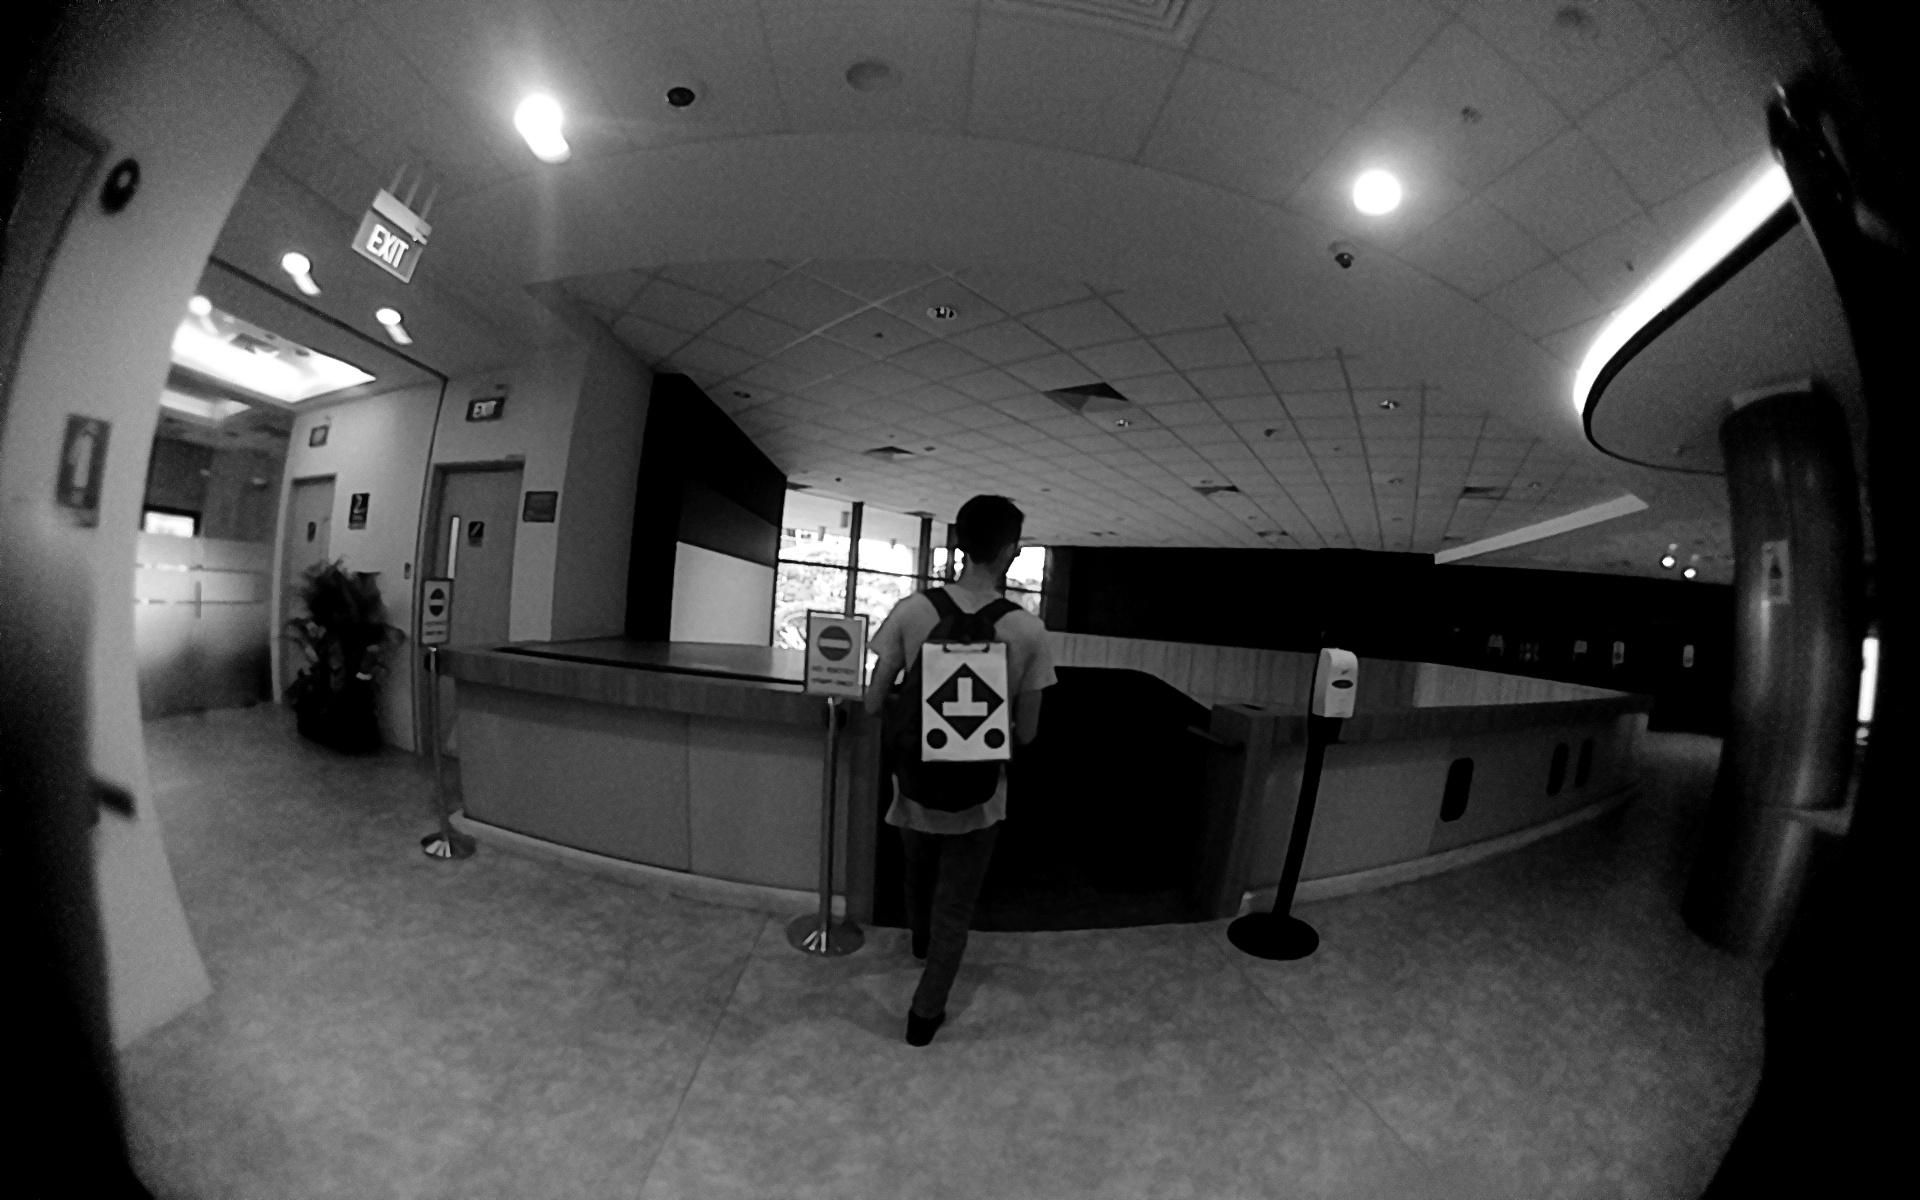continue_forward: (919, 658, 1008, 755)
